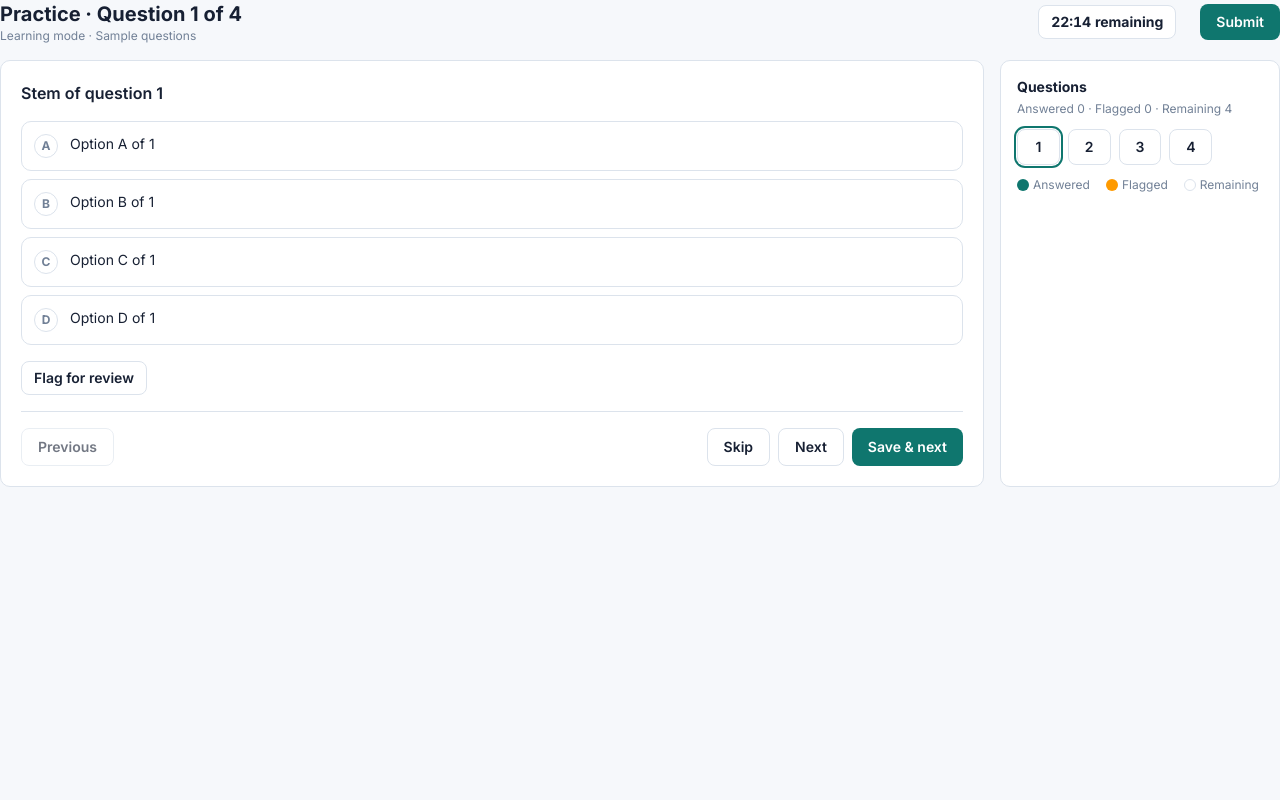
Test: Workspace timing and integrity (R20) › the submit dialog notes un-Checked learning selections
The width and height of the screenshot is (1280, 800).
Press a
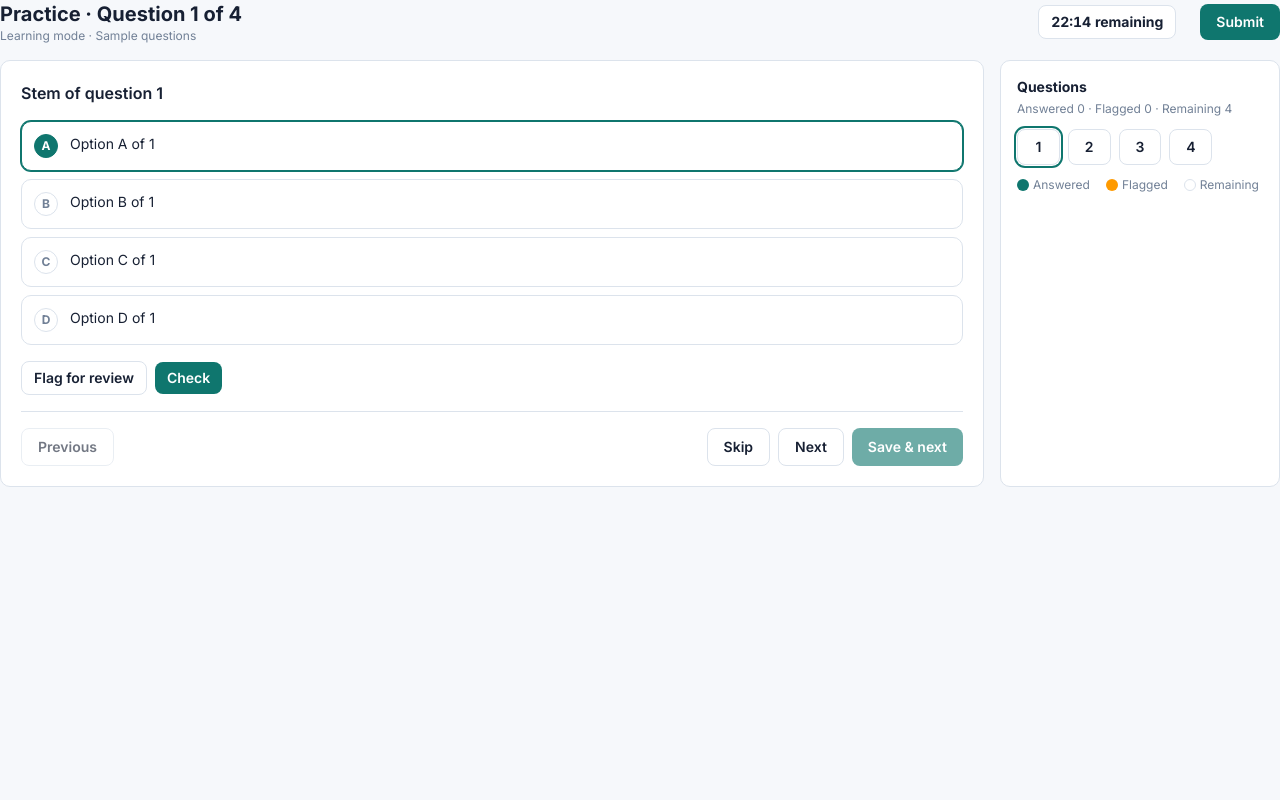
Click the button "Submit": (1240, 22) [1200,4,1279,40]
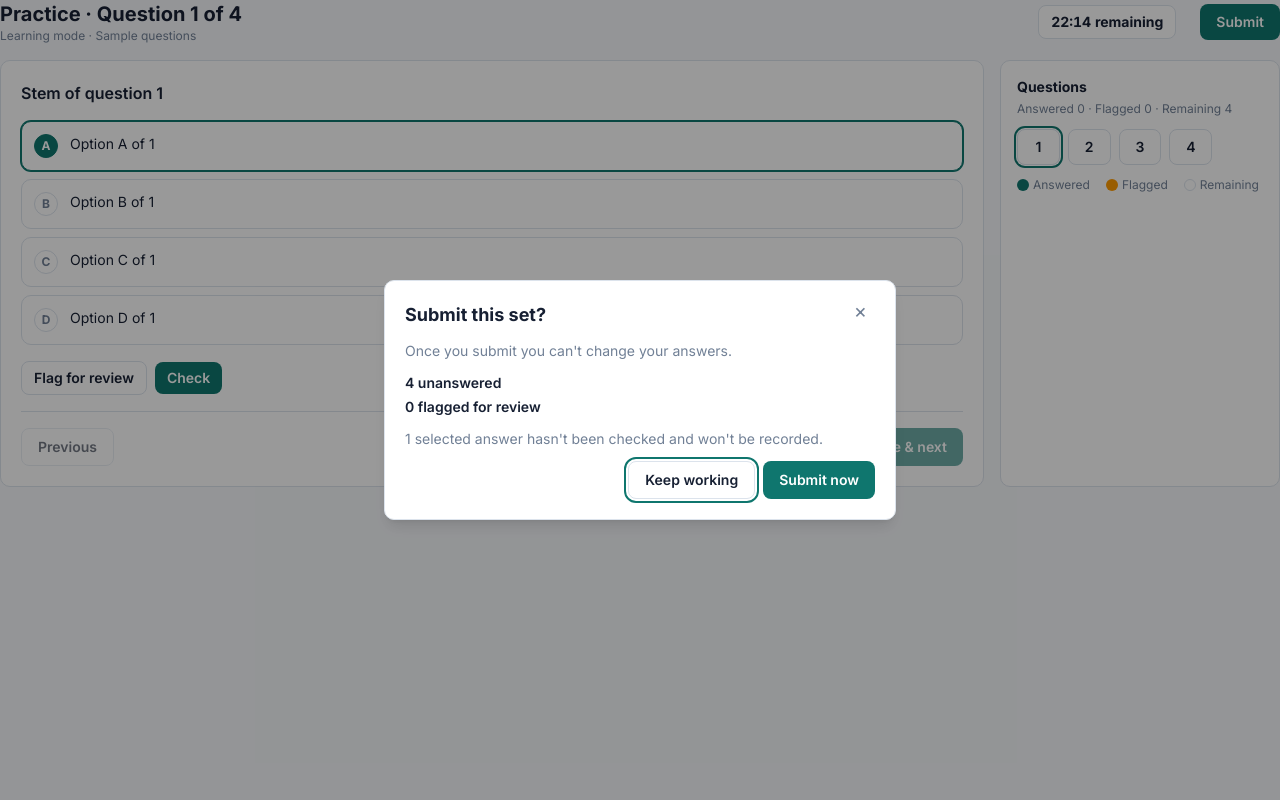
Check: the text "1 selected answer hasn't been checked and won't be recorded." is shown, box [405,429,875,449]
